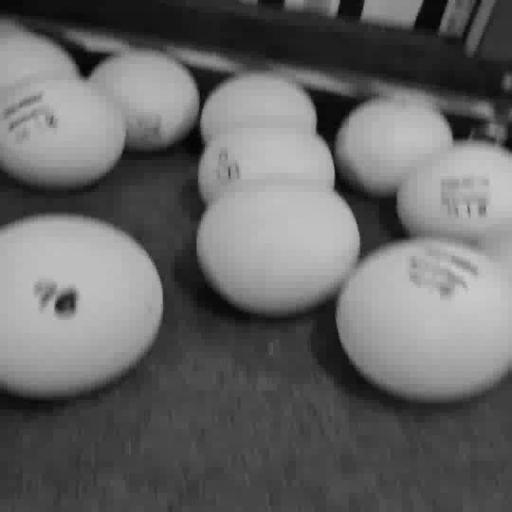fuel: (0, 214, 163, 397), (336, 238, 511, 401), (196, 182, 360, 316), (0, 78, 126, 189), (334, 96, 454, 197), (397, 141, 511, 245), (88, 50, 200, 150), (198, 129, 335, 204), (201, 71, 317, 141), (0, 26, 80, 92)
